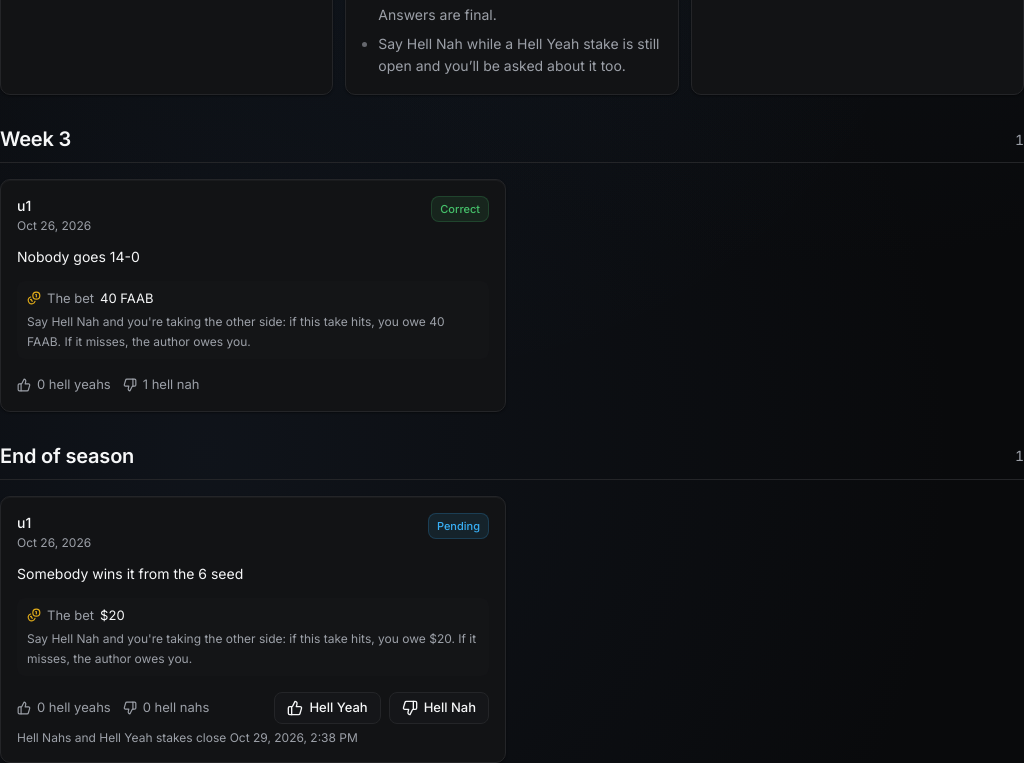
Test: TakesManager, Hell Yeah › says in the dialog that a Hell Yeah stake binds only the Hell Nahs who accept it
This screenshot has width=1024, height=763.
(page scrolled)
Expected: the text "Somebody wins it from the 6 seed" is shown, 17,565 -> 243,582
Click the button "Hell Yeah" at (328, 708), box 274,692 -> 381,724
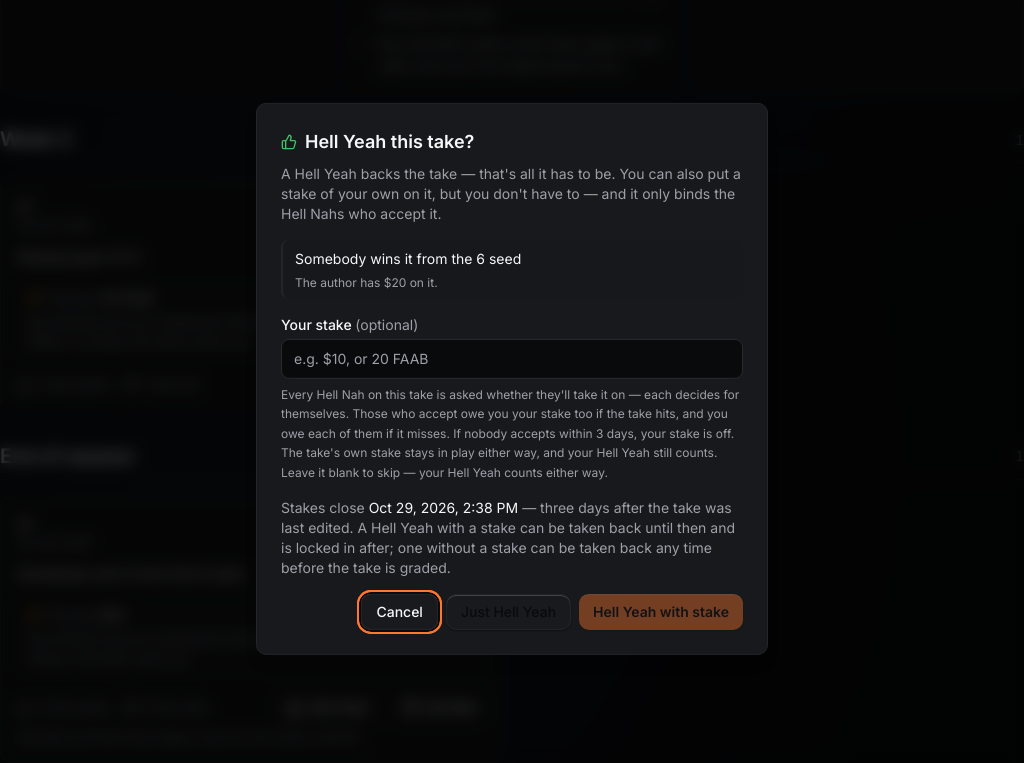
Expected: the text "If nobody accepts within 3 days, your stake is off" is shown, 281,387 -> 739,460
